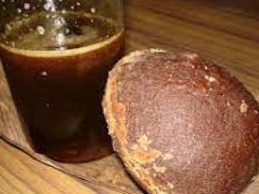hakuru: (97, 44, 259, 194)
